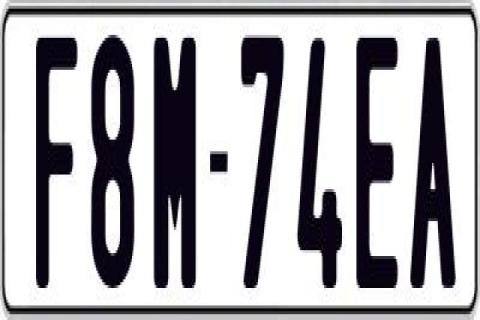0: (88, 35, 138, 299), (242, 38, 288, 302), (298, 38, 342, 300)
A: (408, 29, 452, 285)
E: (356, 35, 404, 303)
F: (34, 32, 76, 285)
M: (152, 35, 198, 299)
